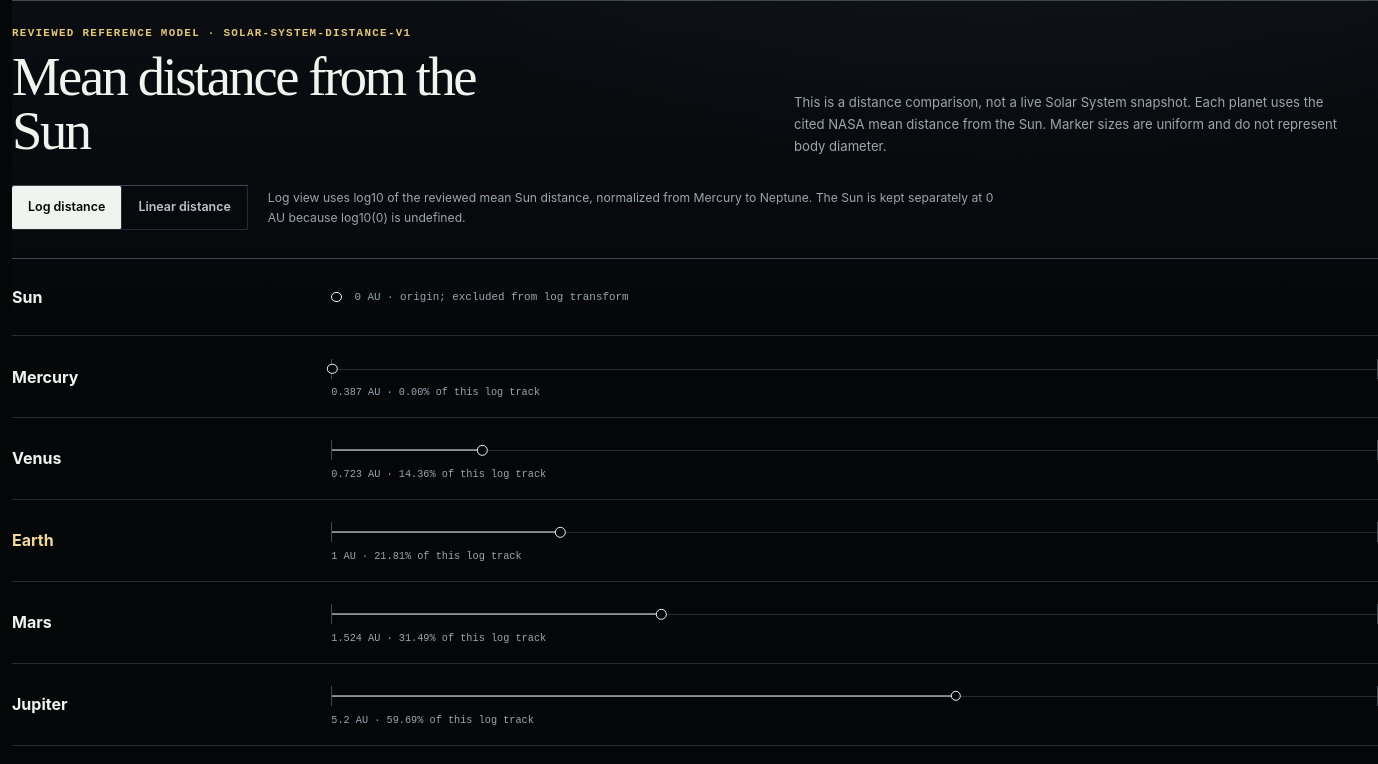
Test: Solar System Distance Explorer › switches only between precomputed log and linear positions
This screenshot has width=1378, height=764.
Check: the text "0.387 AU · 0.00% of this log track" is shown, box x1=331 y1=386 x2=540 y2=398
Click the button "Linear distance" at {"x": 185, "y": 208}, box x1=122 y1=186 x2=248 y2=230
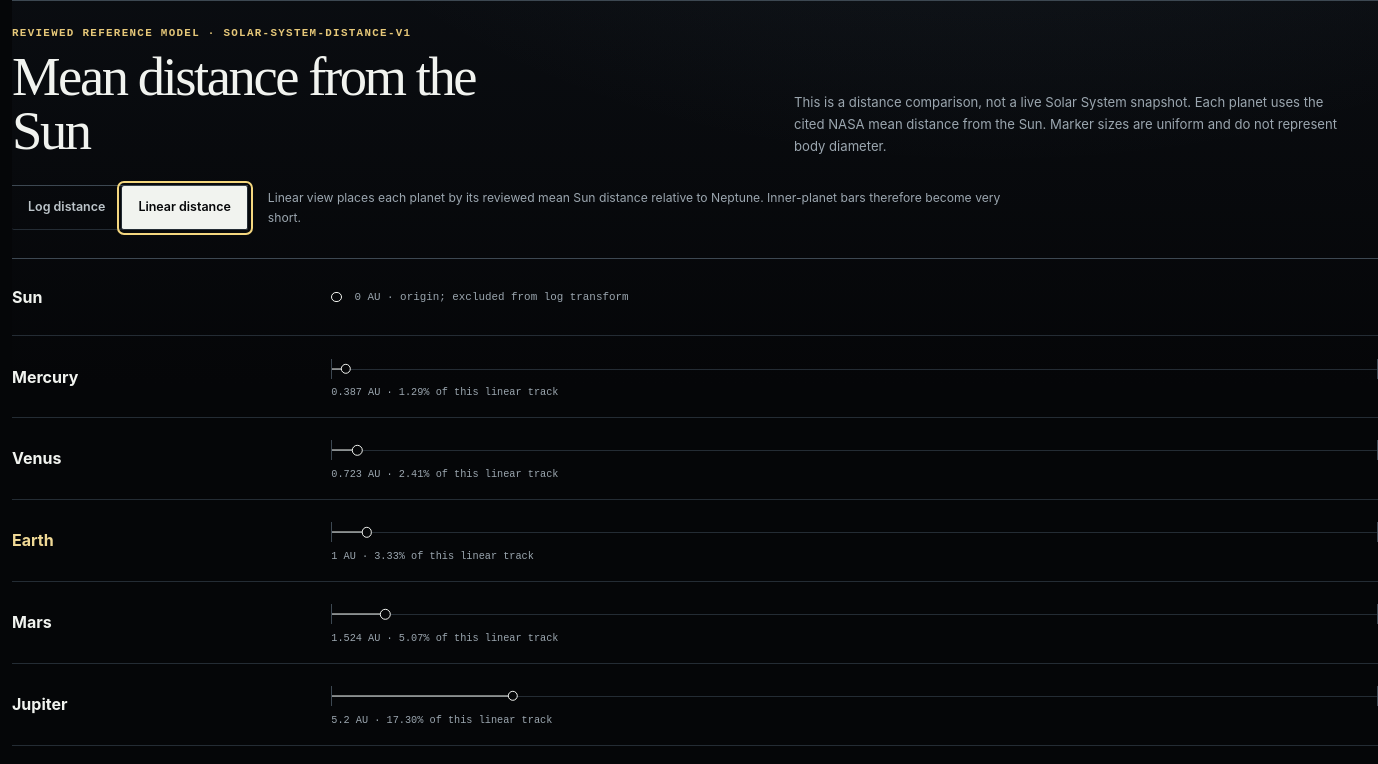
Check: the text "0.387 AU · 1.29% of this linear track" is shown, box x1=331 y1=386 x2=558 y2=398
Check: the text "Inner-planet bars therefore become very short" is shown, box x1=268 y1=190 x2=1000 y2=225
